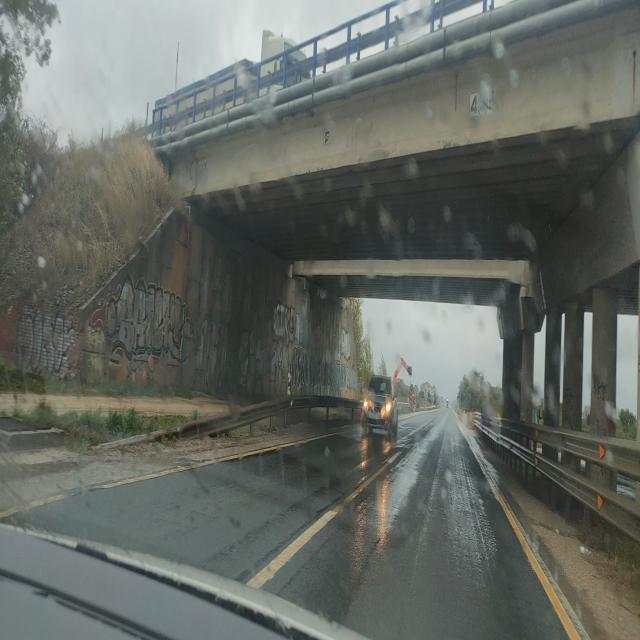Poth-hole: (298, 439, 431, 625), (444, 446, 492, 567)
